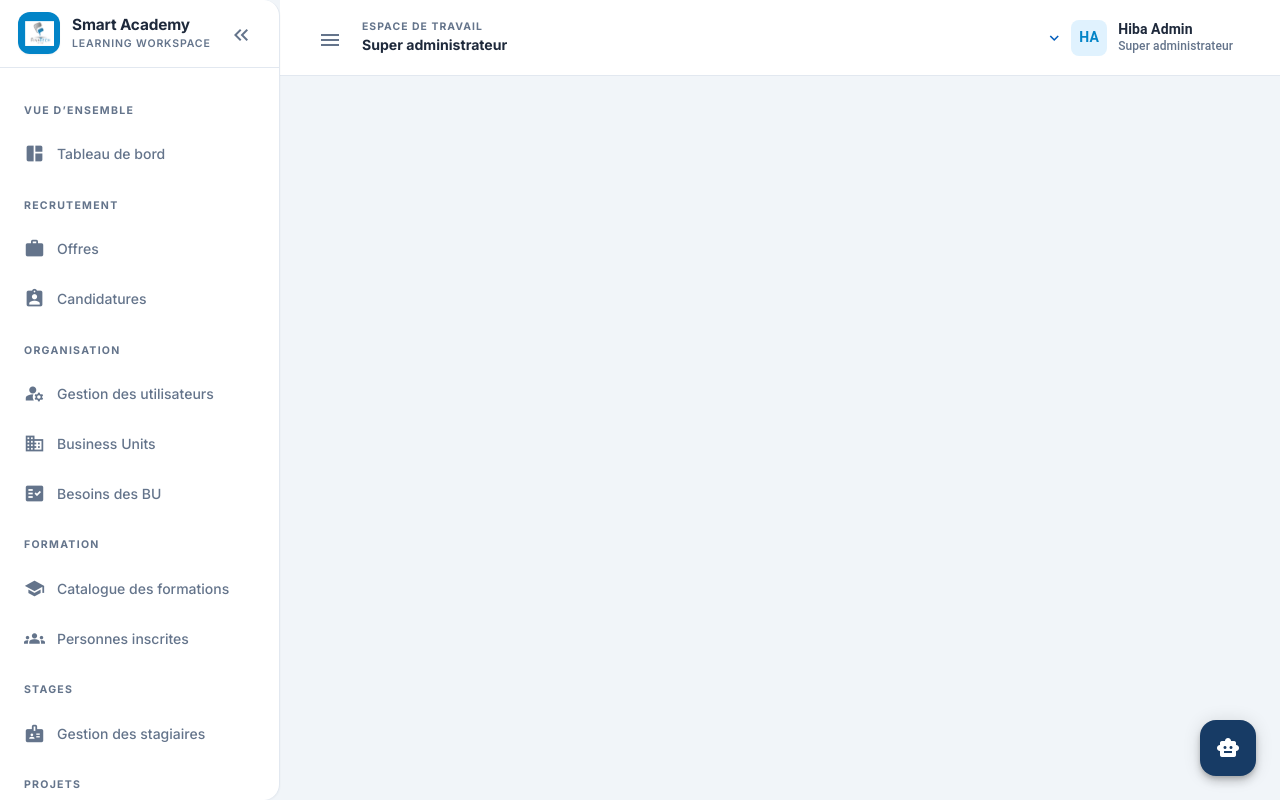
Test case: MainLayoutComponent › keeps personal space on an internal router link
The width and height of the screenshot is (1280, 800).
Click the button with class "account-trigger": [1141, 38] box top-left (1032, 14), bottom-right (1250, 62)
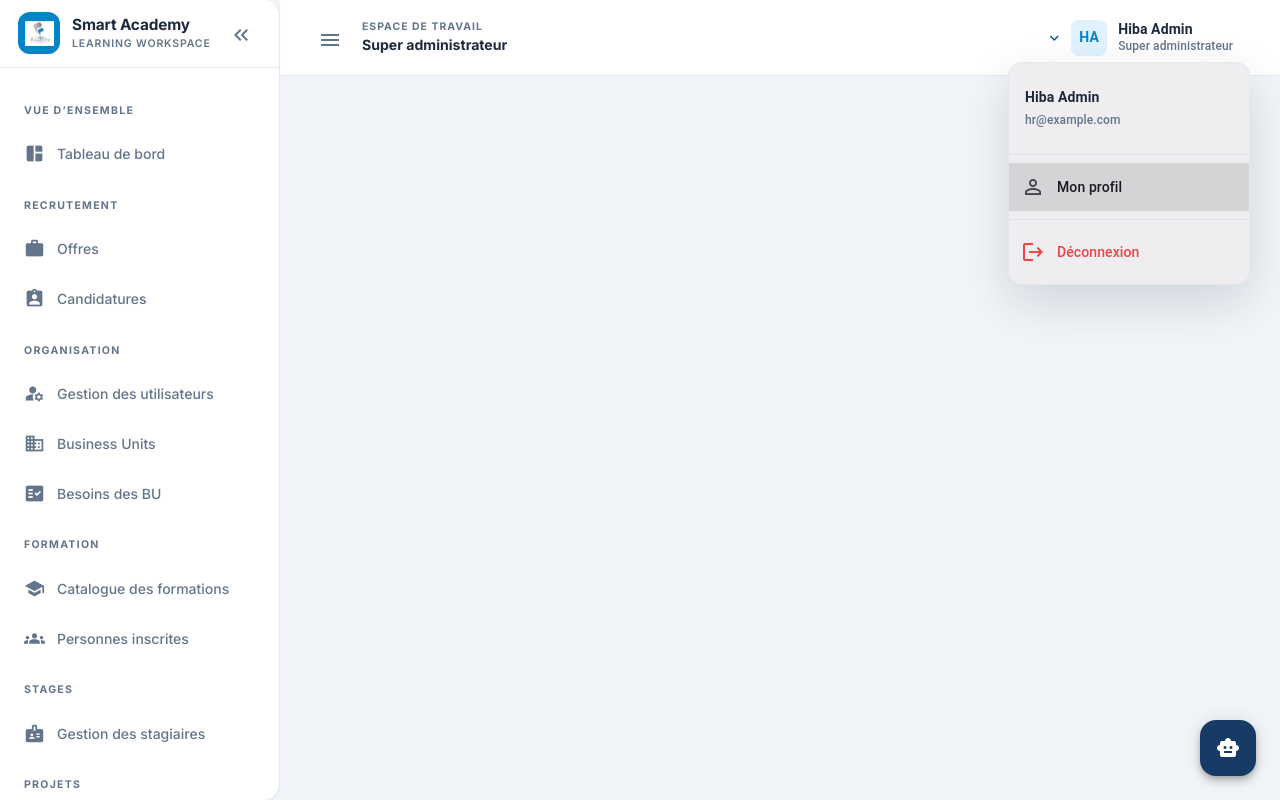
Result: the menu item to "/profile" is shown at top-left (1009, 162), bottom-right (1249, 210)
